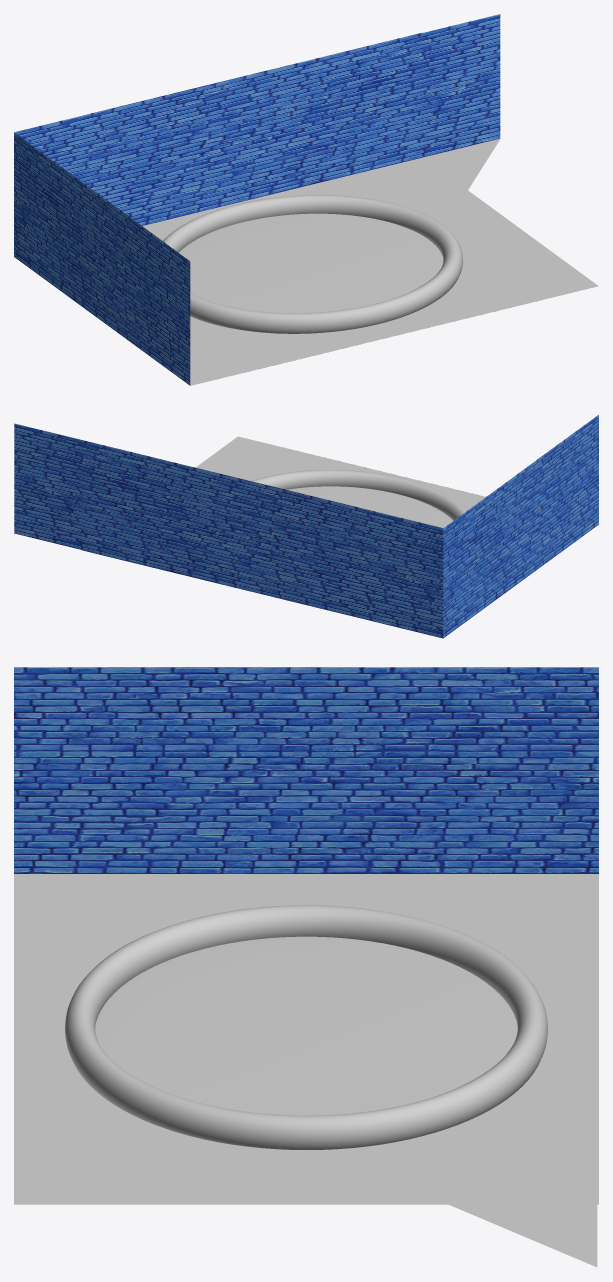
The model's file is OutdoorPenguinRoom.fbx.
The picture shows the model from 3 angles, top to bottom: view 1: azimuth 30°, elevation 25°; view 2: azimuth 150°, elevation 25°; view 3: azimuth 270°, elevation 25°; orthographic projection. The views are drawn at different scales.
Parts seen in each view (by area): view 1: PenguinOutdoor wall, Sphere.001, Torus.001, Plane; view 2: PenguinOutdoor wall, Torus.001, Sphere.001; view 3: PenguinOutdoor wall, Sphere.001, Torus.001, Plane.
Boxes of the visible parts, <box> form: PenguinOutdoor wall: <box>14,14,598,385</box>; Sphere.001: <box>179,213,443,313</box>; Torus.001: <box>163,195,463,333</box>; Plane: <box>423,138,500,189</box>; PenguinOutdoor wall: <box>14,415,598,638</box>; Torus.001: <box>251,470,467,520</box>; Sphere.001: <box>286,486,452,527</box>; PenguinOutdoor wall: <box>14,667,598,1204</box>; Sphere.001: <box>95,936,517,1115</box>; Torus.001: <box>65,905,547,1149</box>; Plane: <box>449,1204,597,1267</box>.
Bounding box in the file's own units: 61.3 × 15.5 × 38.5.
